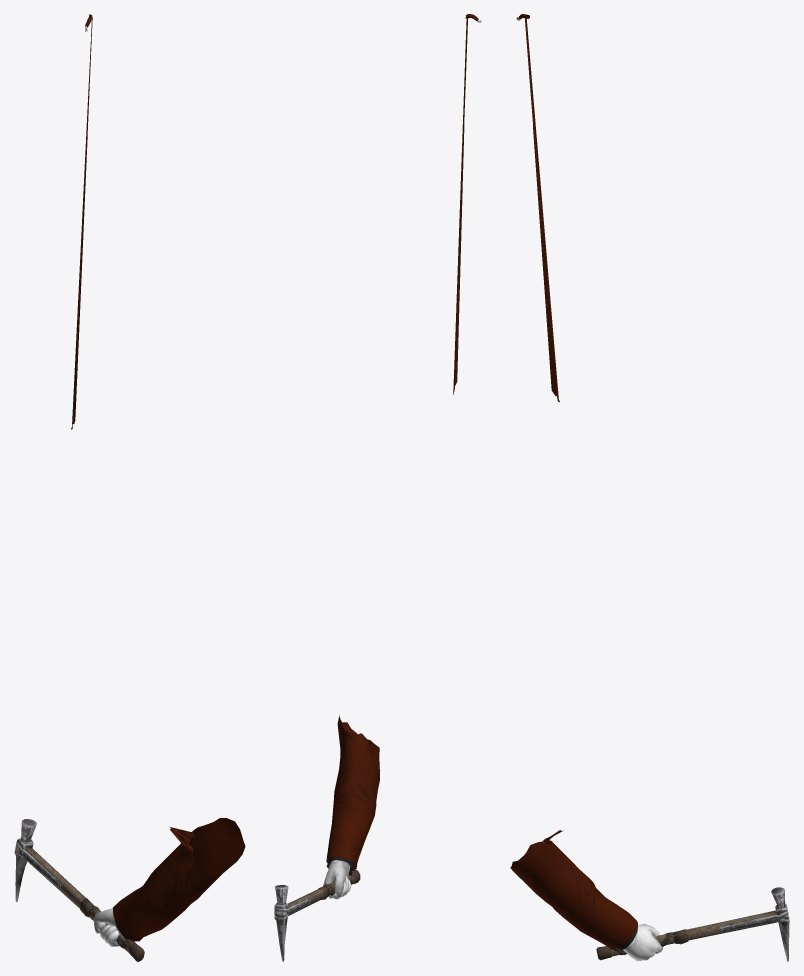
File: frame_29.obj
The picture shows the model from 3 angles, left to right: view 1: azimuth 30°, elevation 25°; view 2: azimuth 150°, elevation 25°; view 3: azimuth 270°, elevation 25°; orthographic projection. The views are drawn at different scales.
Parts seen in each view (by area): view 1: PlayerModelMerged.001_PlayerModelMerged, Cube.028; view 2: PlayerModelMerged.001_PlayerModelMerged, Cube.028; view 3: PlayerModelMerged.001_PlayerModelMerged, Cube.028.
Boxes of the visible parts, <box> form: PlayerModelMerged.001_PlayerModelMerged: <box>71,14,245,946</box>; Cube.028: <box>14,819,144,961</box>; PlayerModelMerged.001_PlayerModelMerged: <box>323,14,481,899</box>; Cube.028: <box>274,870,360,961</box>; PlayerModelMerged.001_PlayerModelMerged: <box>510,14,662,961</box>; Cube.028: <box>596,887,789,961</box>.
Size of the model in its own units: 0.677 by 4.09 by 1.13.
